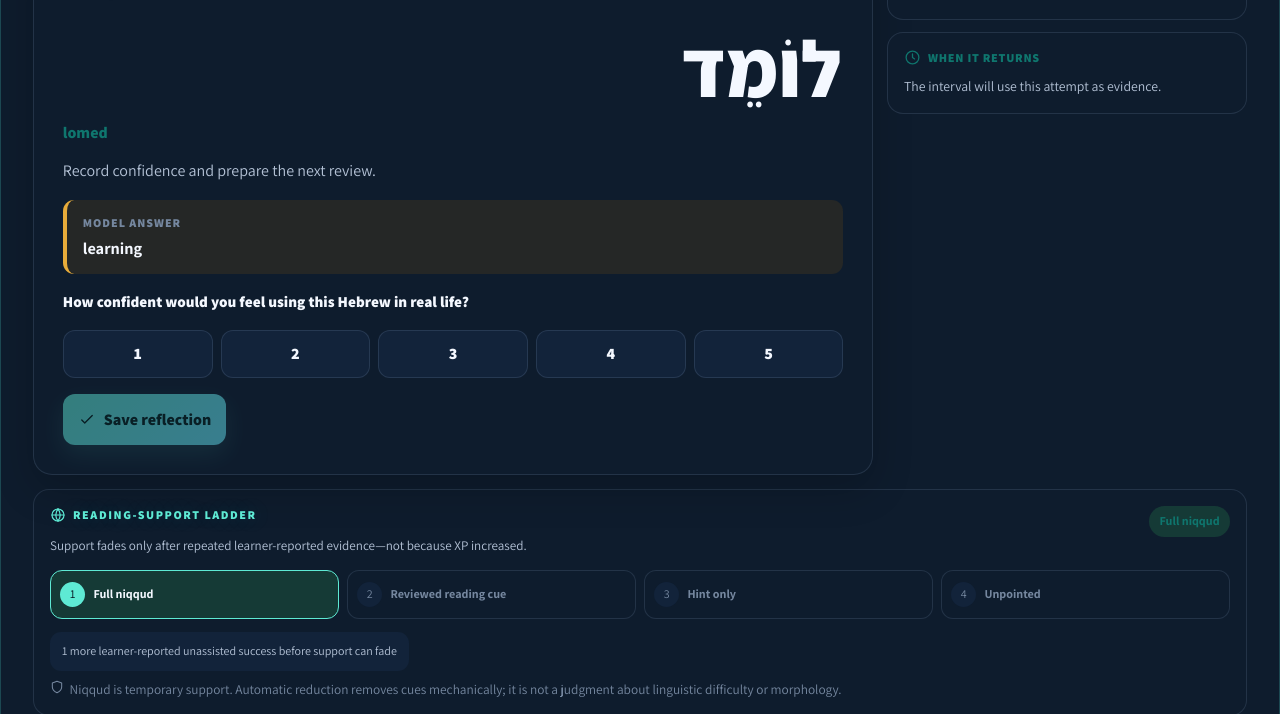
LearningCoreJourney › uses an explicit five-point confidence reflection
This screenshot has width=1280, height=714.
(page scrolled)
Expected: the text "How confident would you feel using this Hebrew in real life?" is shown, left=63, top=290, right=469, bottom=313
Expected: the button "Save reflection" is disabled, left=63, top=394, right=226, bottom=445
Click the button named "Confidence 3 of 5": {"x": 453, "y": 354} left=378, top=330, right=528, bottom=378
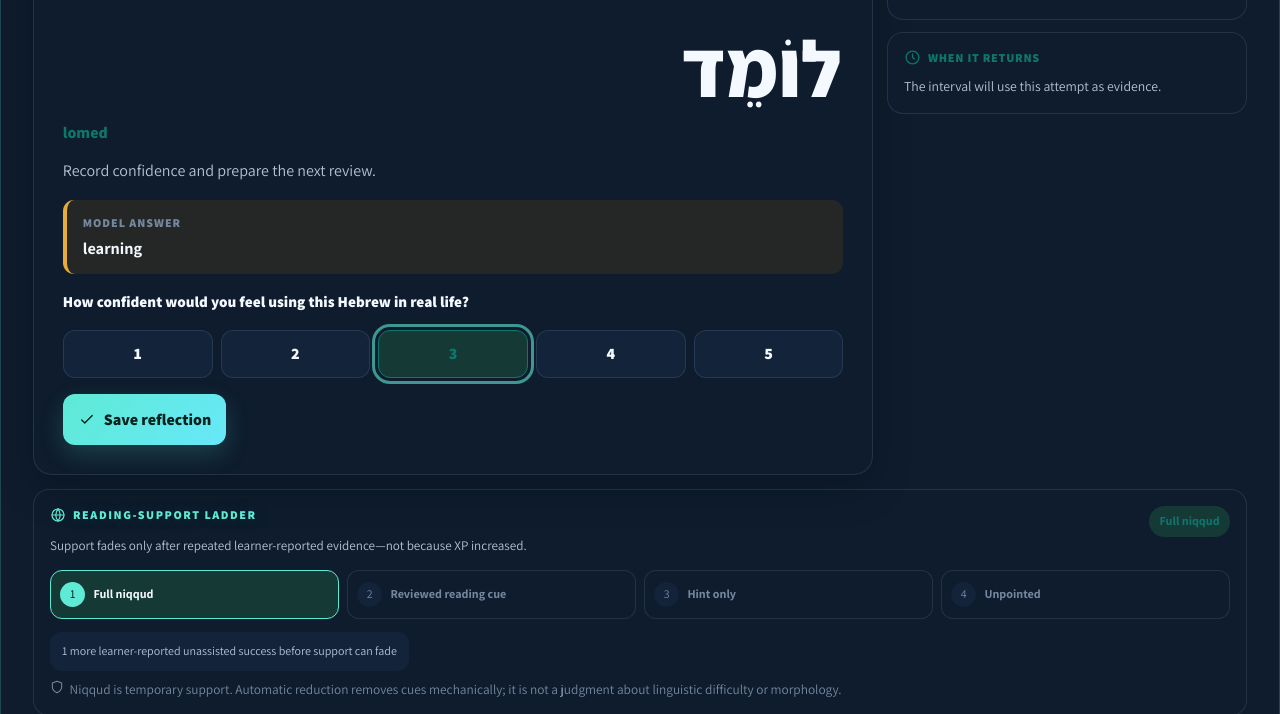
Expected: the button "Save reflection" is enabled, left=63, top=394, right=226, bottom=445
